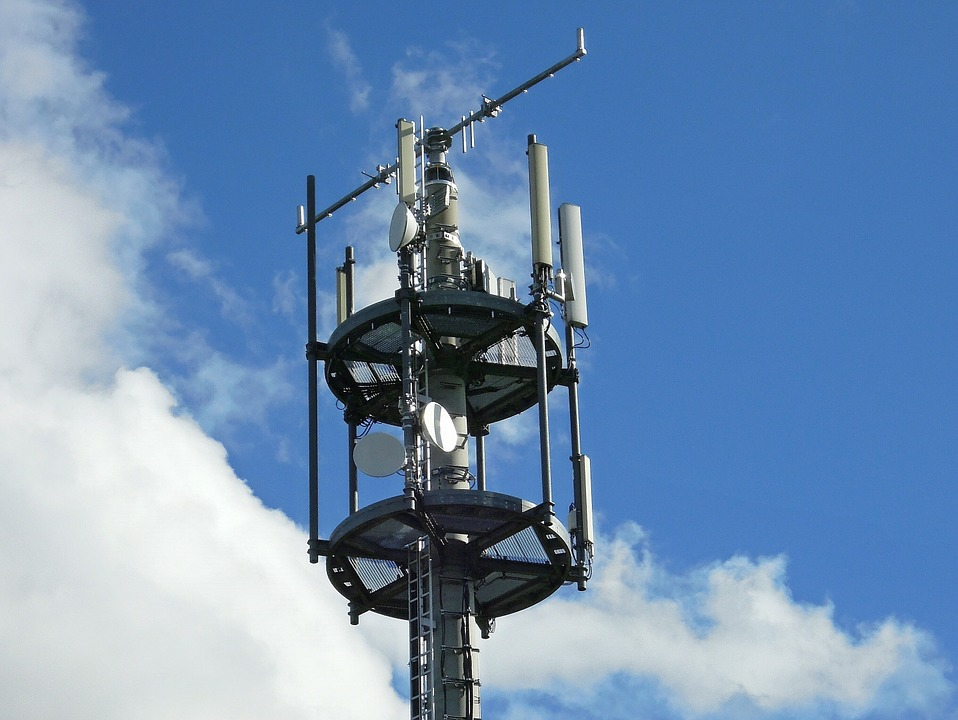a: (520, 133, 559, 276), (556, 203, 597, 329), (397, 119, 419, 202), (578, 457, 595, 548), (335, 269, 347, 325)
b: (353, 433, 409, 477), (421, 399, 457, 452), (389, 202, 412, 252)
